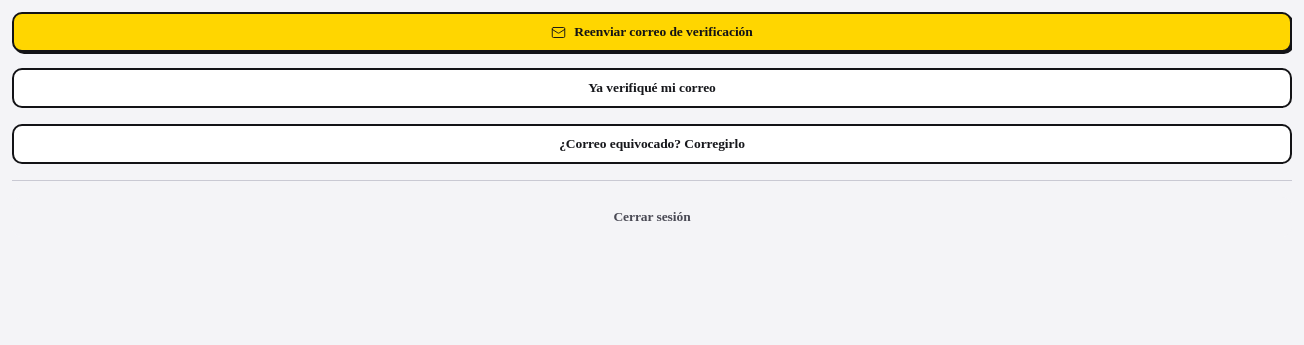
Test case: ActivationPage — correcting a mistyped email (#1245) › says «Ese correo ya pertenece a otra cuenta.» when the corrected address is taken (REG-12)
Click the button "¿Correo equivocado? Corregirlo": (652, 144) [12, 124, 1292, 164]
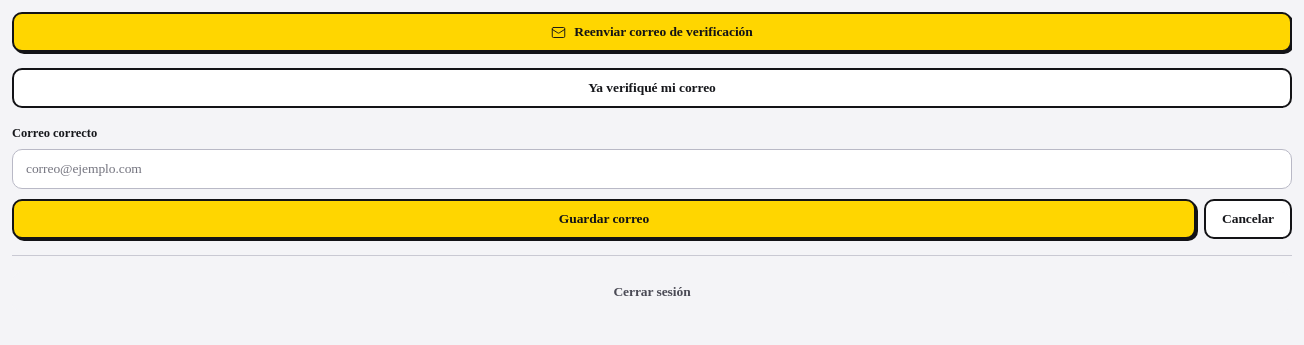
In the field labelled "Correo correcto": (652, 169) [12, 149, 1292, 189], type "usado@cataclub.com"
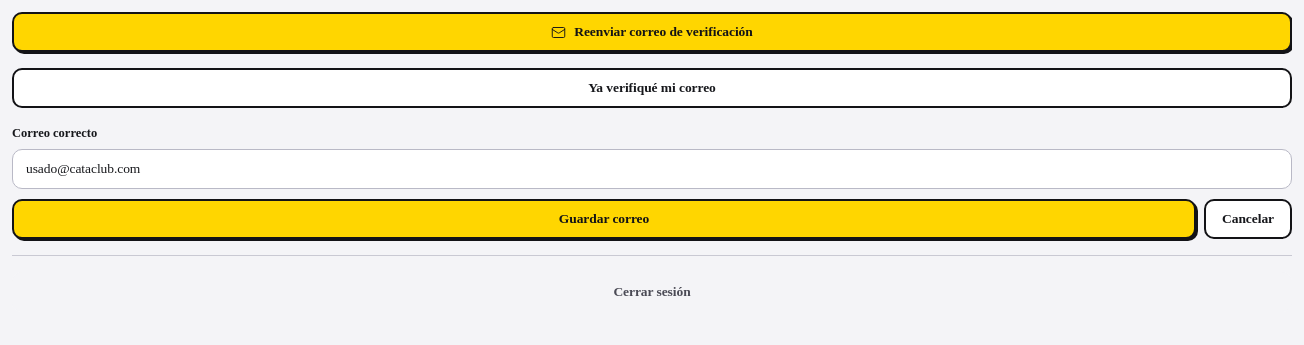
Click the button "Guardar correo": (604, 219) [12, 199, 1196, 239]
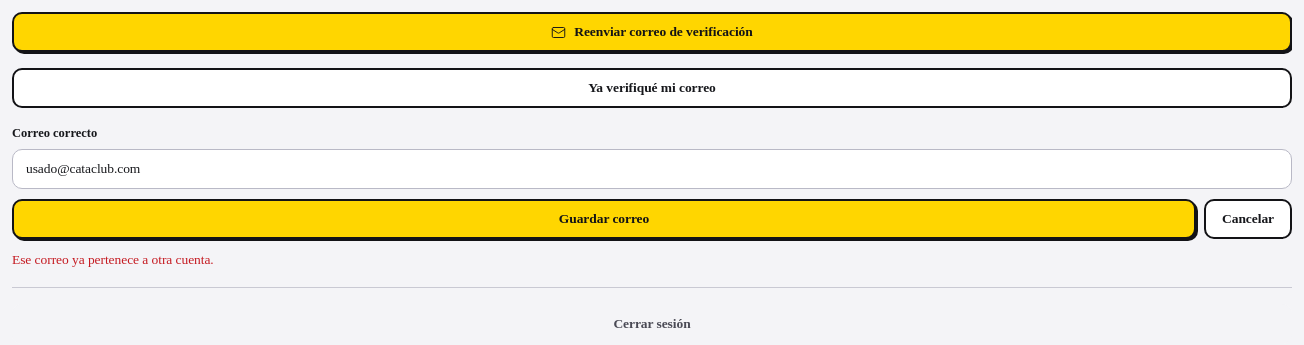
Expected: the message reads "Ese correo ya pertenece a otra cuenta.", [12, 252, 214, 267]
